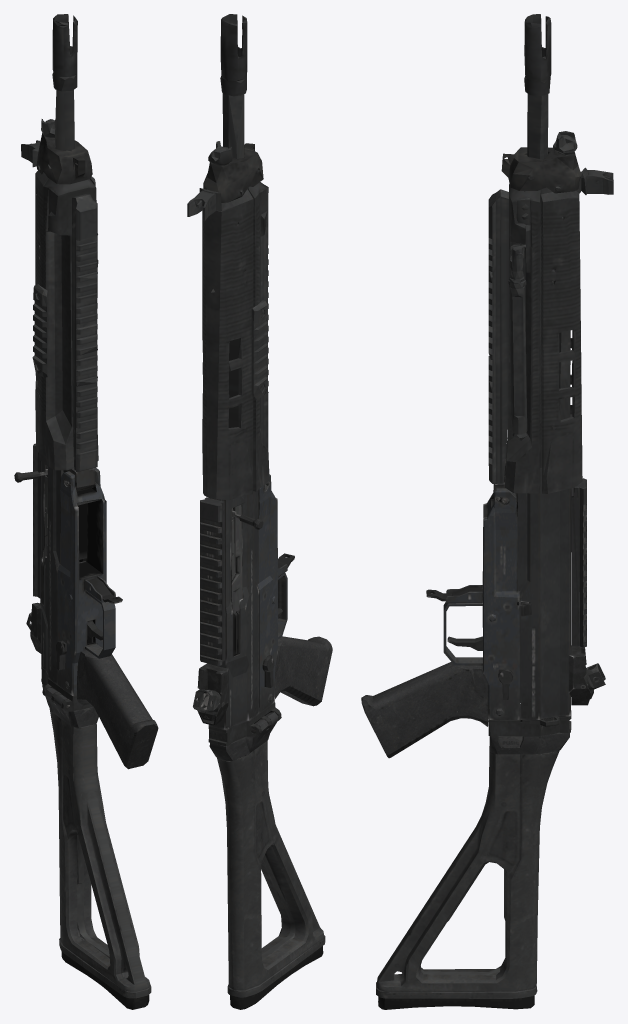
Rendered from SIG550NoMag.fbx.
3 views of the same model, side by side, from view 1: azimuth 30°, elevation 25°; view 2: azimuth 150°, elevation 25°; view 3: azimuth 270°, elevation 25° (orthographic). The views are drawn at different scales.
Parts seen in each view (by area): view 1: SIG550; view 2: SIG550; view 3: SIG550.
Part boxes in pixels (x1,y1,x2,y2): SIG550: (14, 14, 158, 1009); SIG550: (187, 14, 332, 1009); SIG550: (361, 14, 613, 1009).
Size of the model in its own units: 0.0422 by 0.596 by 0.1379.
